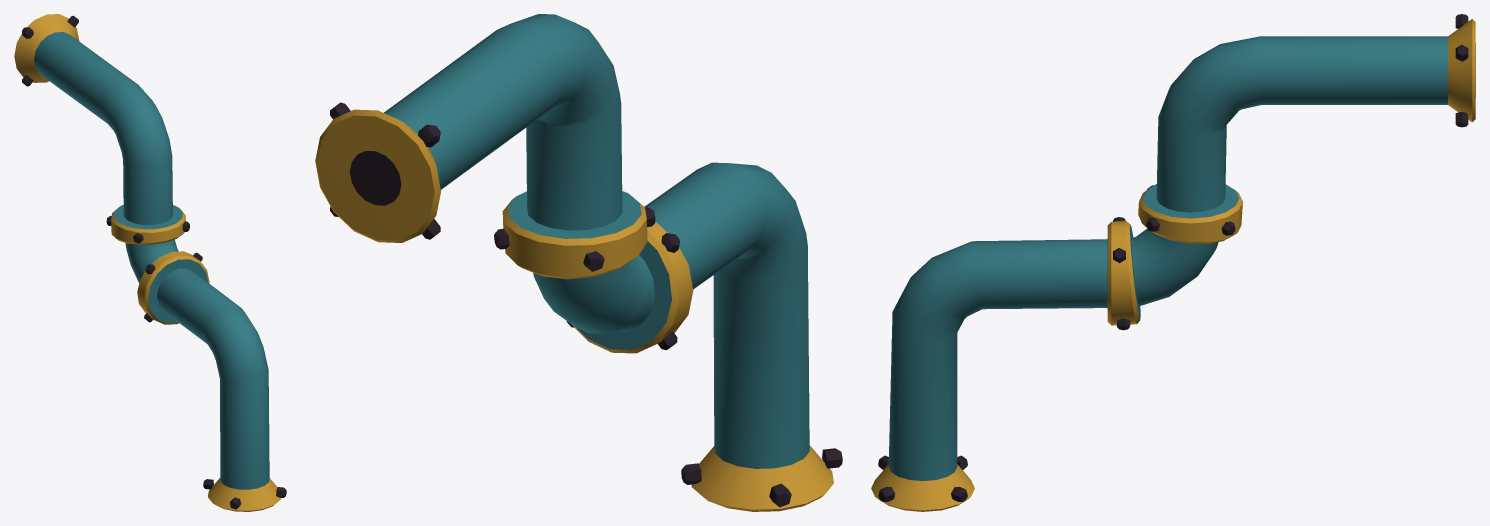
Rendered from PipeRun_14.glb.
3 views of the same model, side by side, from view 1: azimuth 30°, elevation 25°; view 2: azimuth 150°, elevation 25°; view 3: azimuth 270°, elevation 25° (orthographic). The views are drawn at different scales.
Parts seen in each view (by area): view 1: PipeRun_14; view 2: PipeRun_14; view 3: PipeRun_14.
Boxes of the visible parts, left/top/right/bottom form: PipeRun_14: left=14, top=14, right=286, bottom=511; PipeRun_14: left=315, top=14, right=842, bottom=511; PipeRun_14: left=871, top=14, right=1475, bottom=511.
Bounding box in the file's own units: 1.12 × 5.58 × 6.54.
